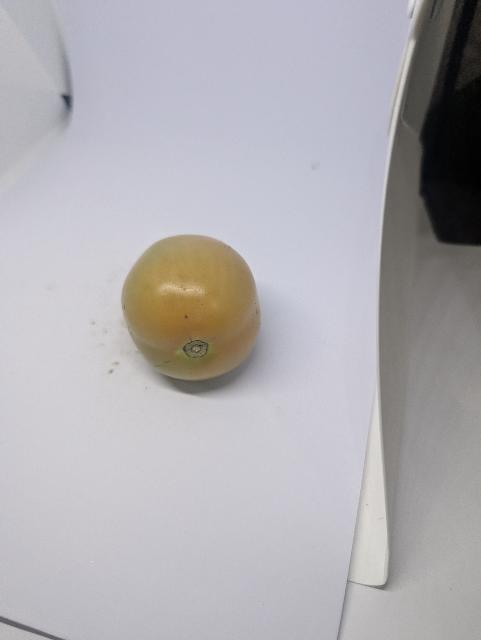turning: (117, 233, 265, 384)
